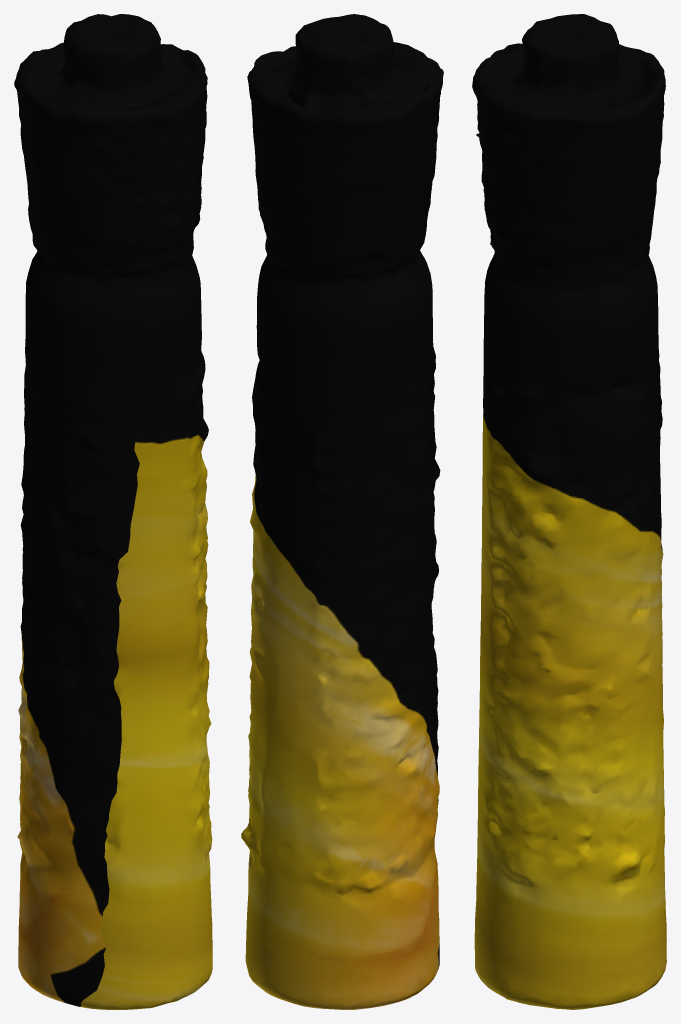
The picture shows the model from 3 angles, left to right: view 1: azimuth 30°, elevation 25°; view 2: azimuth 150°, elevation 25°; view 3: azimuth 270°, elevation 25°; orthographic projection.
Visible parts, largest first — view 1: textured.002; view 2: textured.002; view 3: textured.002.
Boxes of the visible parts, bbox=[...] form: textured.002: bbox=[14, 14, 212, 1009]; textured.002: bbox=[241, 14, 443, 1009]; textured.002: bbox=[472, 14, 666, 1009].
Bounding box in the file's own units: 0.0426 × 0.2267 × 0.0425.
